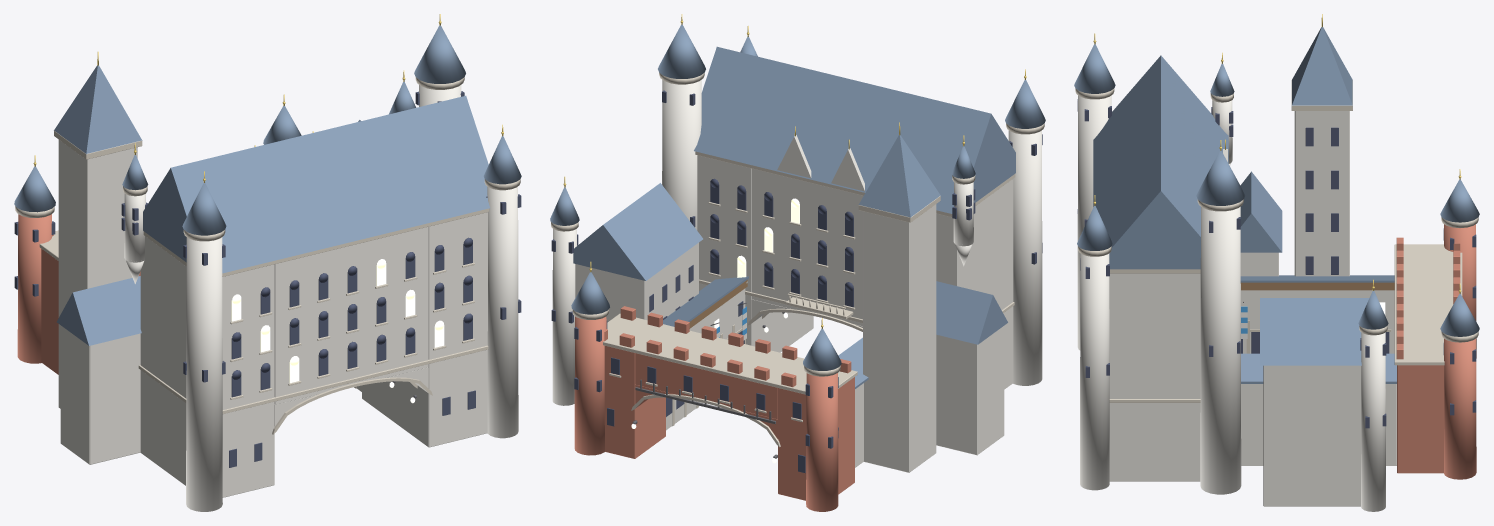
File: schloss.glb
3 renders of one model, left to right at view 1: azimuth 30°, elevation 25°; view 2: azimuth 150°, elevation 25°; view 3: azimuth 270°, elevation 25°, orthographic. The views are drawn at different scales.
Visible parts, largest first — view 1: SC_Palas, SC_Hof, SC_Torbau; view 2: SC_Palas, SC_Hof, SC_Torbau; view 3: SC_Palas, SC_Hof, SC_Torbau.
Part boxes in pixels (x1,y1,x2,y2): SC_Palas: (121,14,521,511); SC_Hof: (54,51,415,464); SC_Torbau: (14,94,301,374); SC_Palas: (658,14,1045,389); SC_Hof: (550,122,1007,472); SC_Torbau: (571,261,857,511); SC_Palas: (1074,33,1245,494); SC_Hof: (1240,14,1396,511); SC_Torbau: (1394,169,1479,479).
Bounding box in the file's own units: 56.62 × 48.5 × 51.56.
